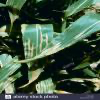Corn leaf blight: (9, 12, 99, 64), (20, 22, 49, 87), (5, 0, 29, 37)
